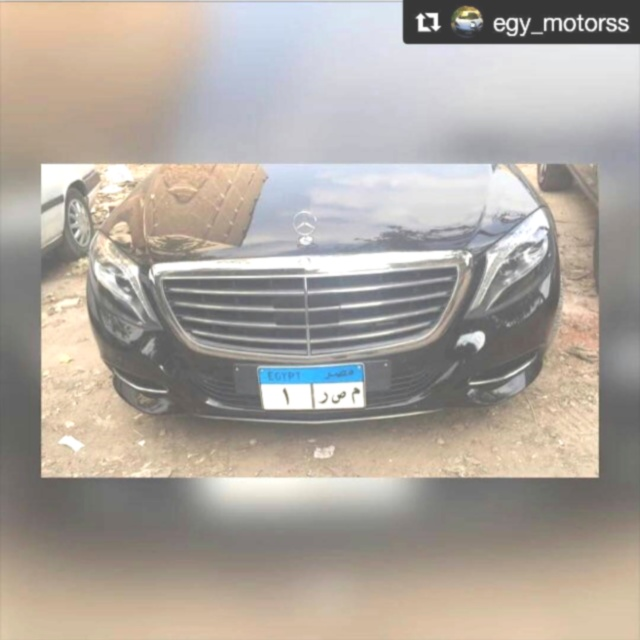License Plate: (254, 361, 372, 412)
